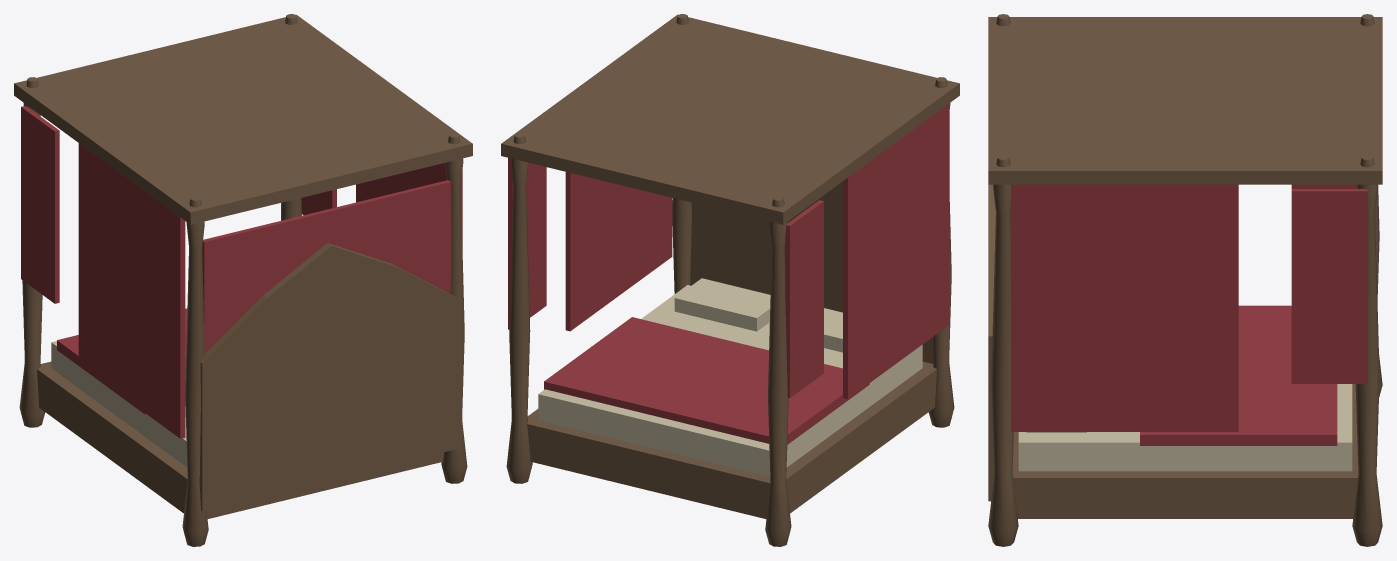
The model's file is CanopyBed.fbx.
3 renders of one model, left to right at view 1: azimuth 30°, elevation 25°; view 2: azimuth 150°, elevation 25°; view 3: azimuth 270°, elevation 25°, orthographic. The views are drawn at different scales.
Parts seen in each view (by area): view 1: CanopyBed; view 2: CanopyBed; view 3: CanopyBed.
Boxes of the visible parts, x1,y1,x2,y2 form: CanopyBed: [14, 14, 472, 546]; CanopyBed: [501, 14, 959, 546]; CanopyBed: [988, 14, 1382, 546].
Bounding box in the file's own units: 2.4 × 2.8 × 2.6.
